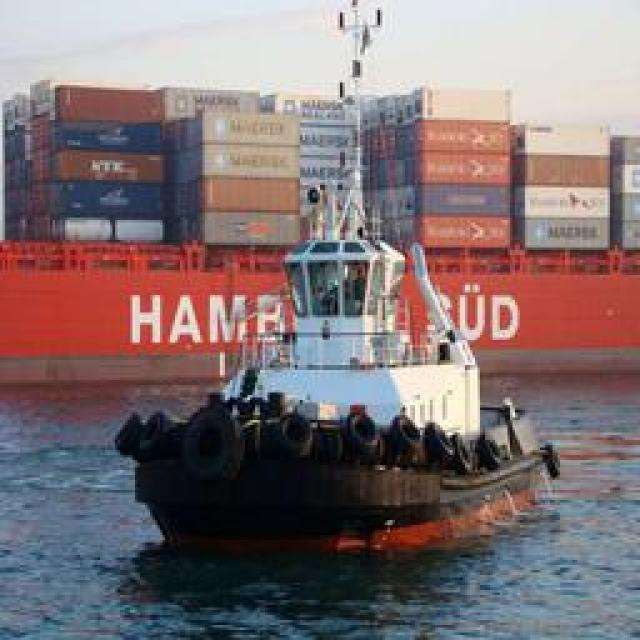CIV_Ship: (125, 196, 558, 546)
